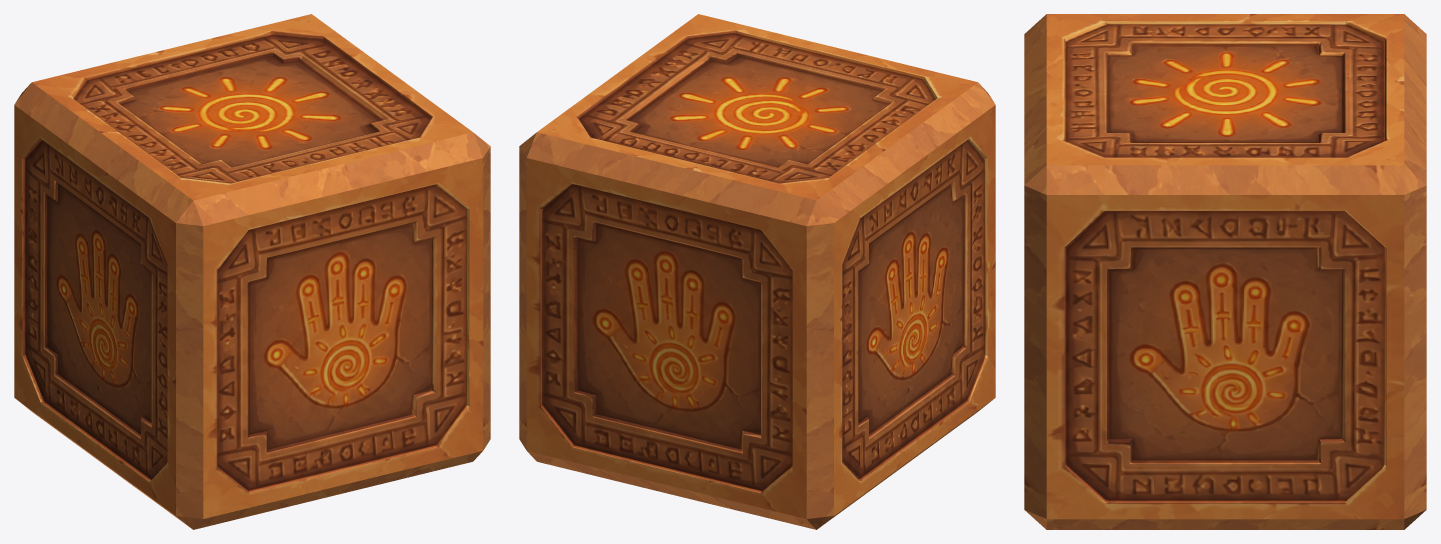
The model's file is SlideCube01.glb.
3 renders of one model, left to right at view 1: azimuth 30°, elevation 25°; view 2: azimuth 150°, elevation 25°; view 3: azimuth 270°, elevation 25°, orthographic. The views are drawn at different scales.
Visible parts, largest first — view 1: SlideCube01; view 2: SlideCube01; view 3: SlideCube01.
Boxes of the visible parts, x1,y1,x2,y2 form: SlideCube01: [14, 14, 490, 529]; SlideCube01: [519, 14, 995, 529]; SlideCube01: [1024, 14, 1426, 529].
Bounding box in the file's own units: 2.7 × 2.7 × 2.7.
1 material, 1 textured.
